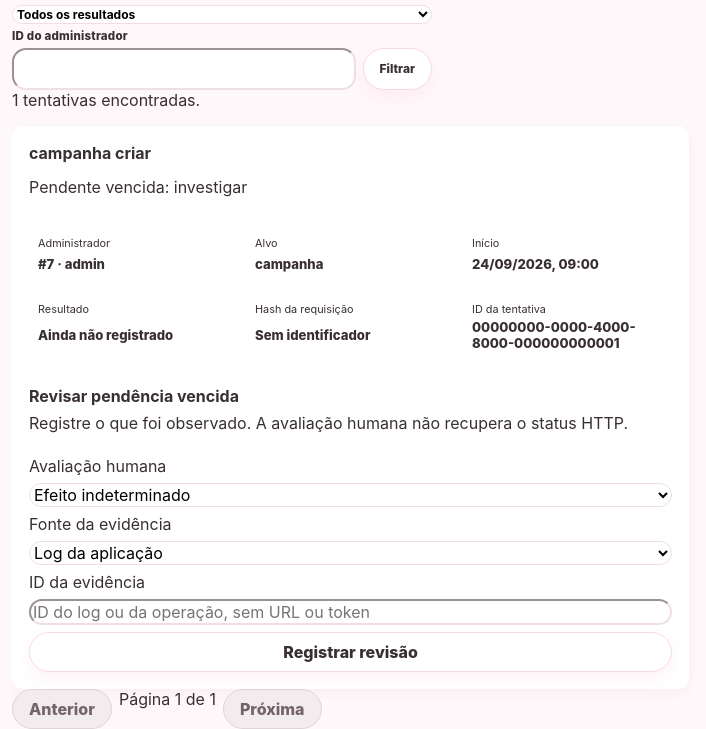
Test: AdminAuditPage › revisa pendência vencida e mantém a incerteza do status HTTP
(page scrolled)
Check: the text "Pendente vencida: investigar" is shown, box [29,177,247,197]
In the field labelled "ID da evidência": point(350, 612) [29,599,672,625], type "request-12345"
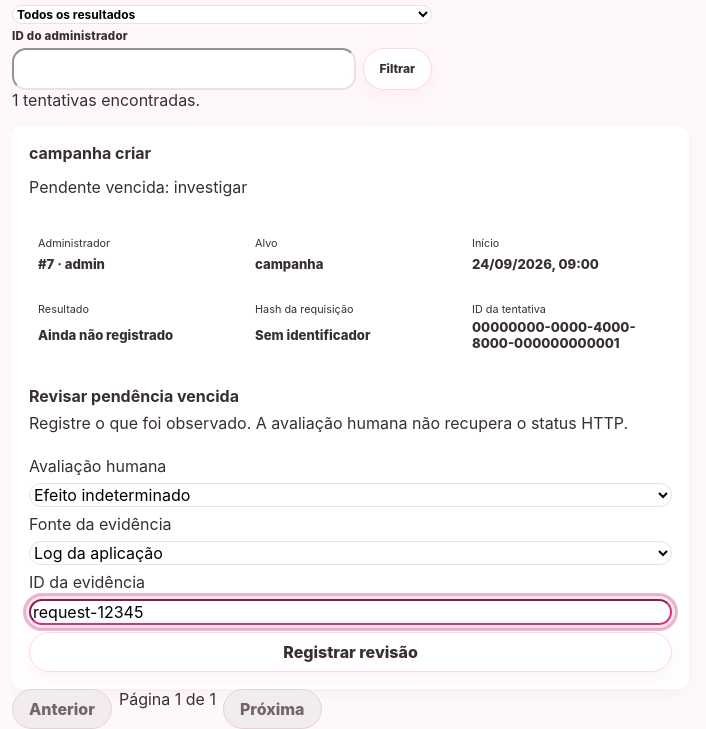
Click the button "Registrar revisão": point(350, 652) [29,632,672,672]
(page scrolled)
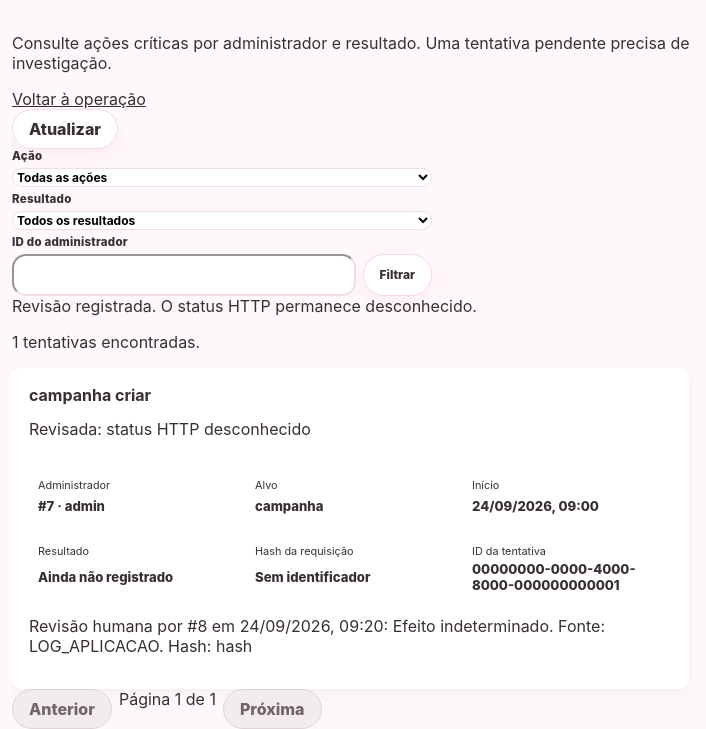
Check: the text "Revisada: status HTTP desconhecido" is shown, box [29,419,311,439]
Check: the text "Revisão humana por #8" is shown, box [29,616,672,656]
